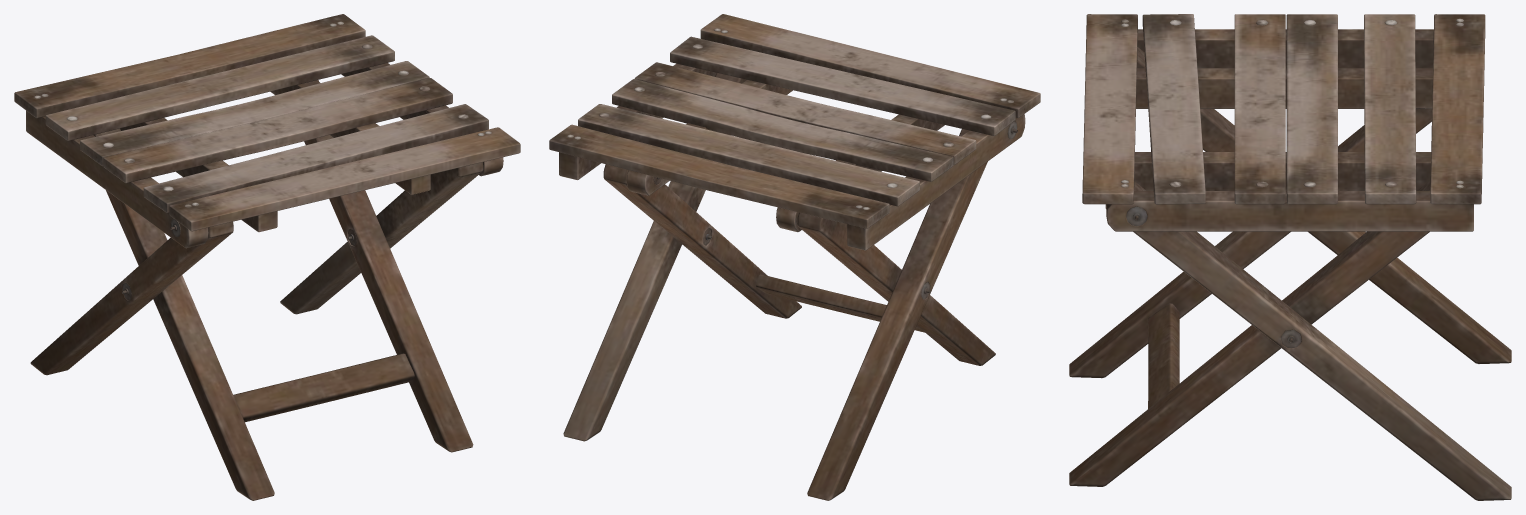
File: folding_wooden_stool.glb
3 renders of one model, left to right at view 1: azimuth 30°, elevation 25°; view 2: azimuth 150°, elevation 25°; view 3: azimuth 270°, elevation 25°, orthographic. The views are drawn at different scales.
Parts seen in each view (by area): view 1: folding_wooden_stool; view 2: folding_wooden_stool; view 3: folding_wooden_stool.
Boxes of the visible parts, x1=… form: folding_wooden_stool: x1=14, y1=14, x2=520, y2=500; folding_wooden_stool: x1=549, y1=14, x2=1040, y2=500; folding_wooden_stool: x1=1069, y1=14, x2=1511, y2=500.
Size of the model in its own units: 0.5278 by 0.442 by 0.5471.
1 material, 1 textured.
